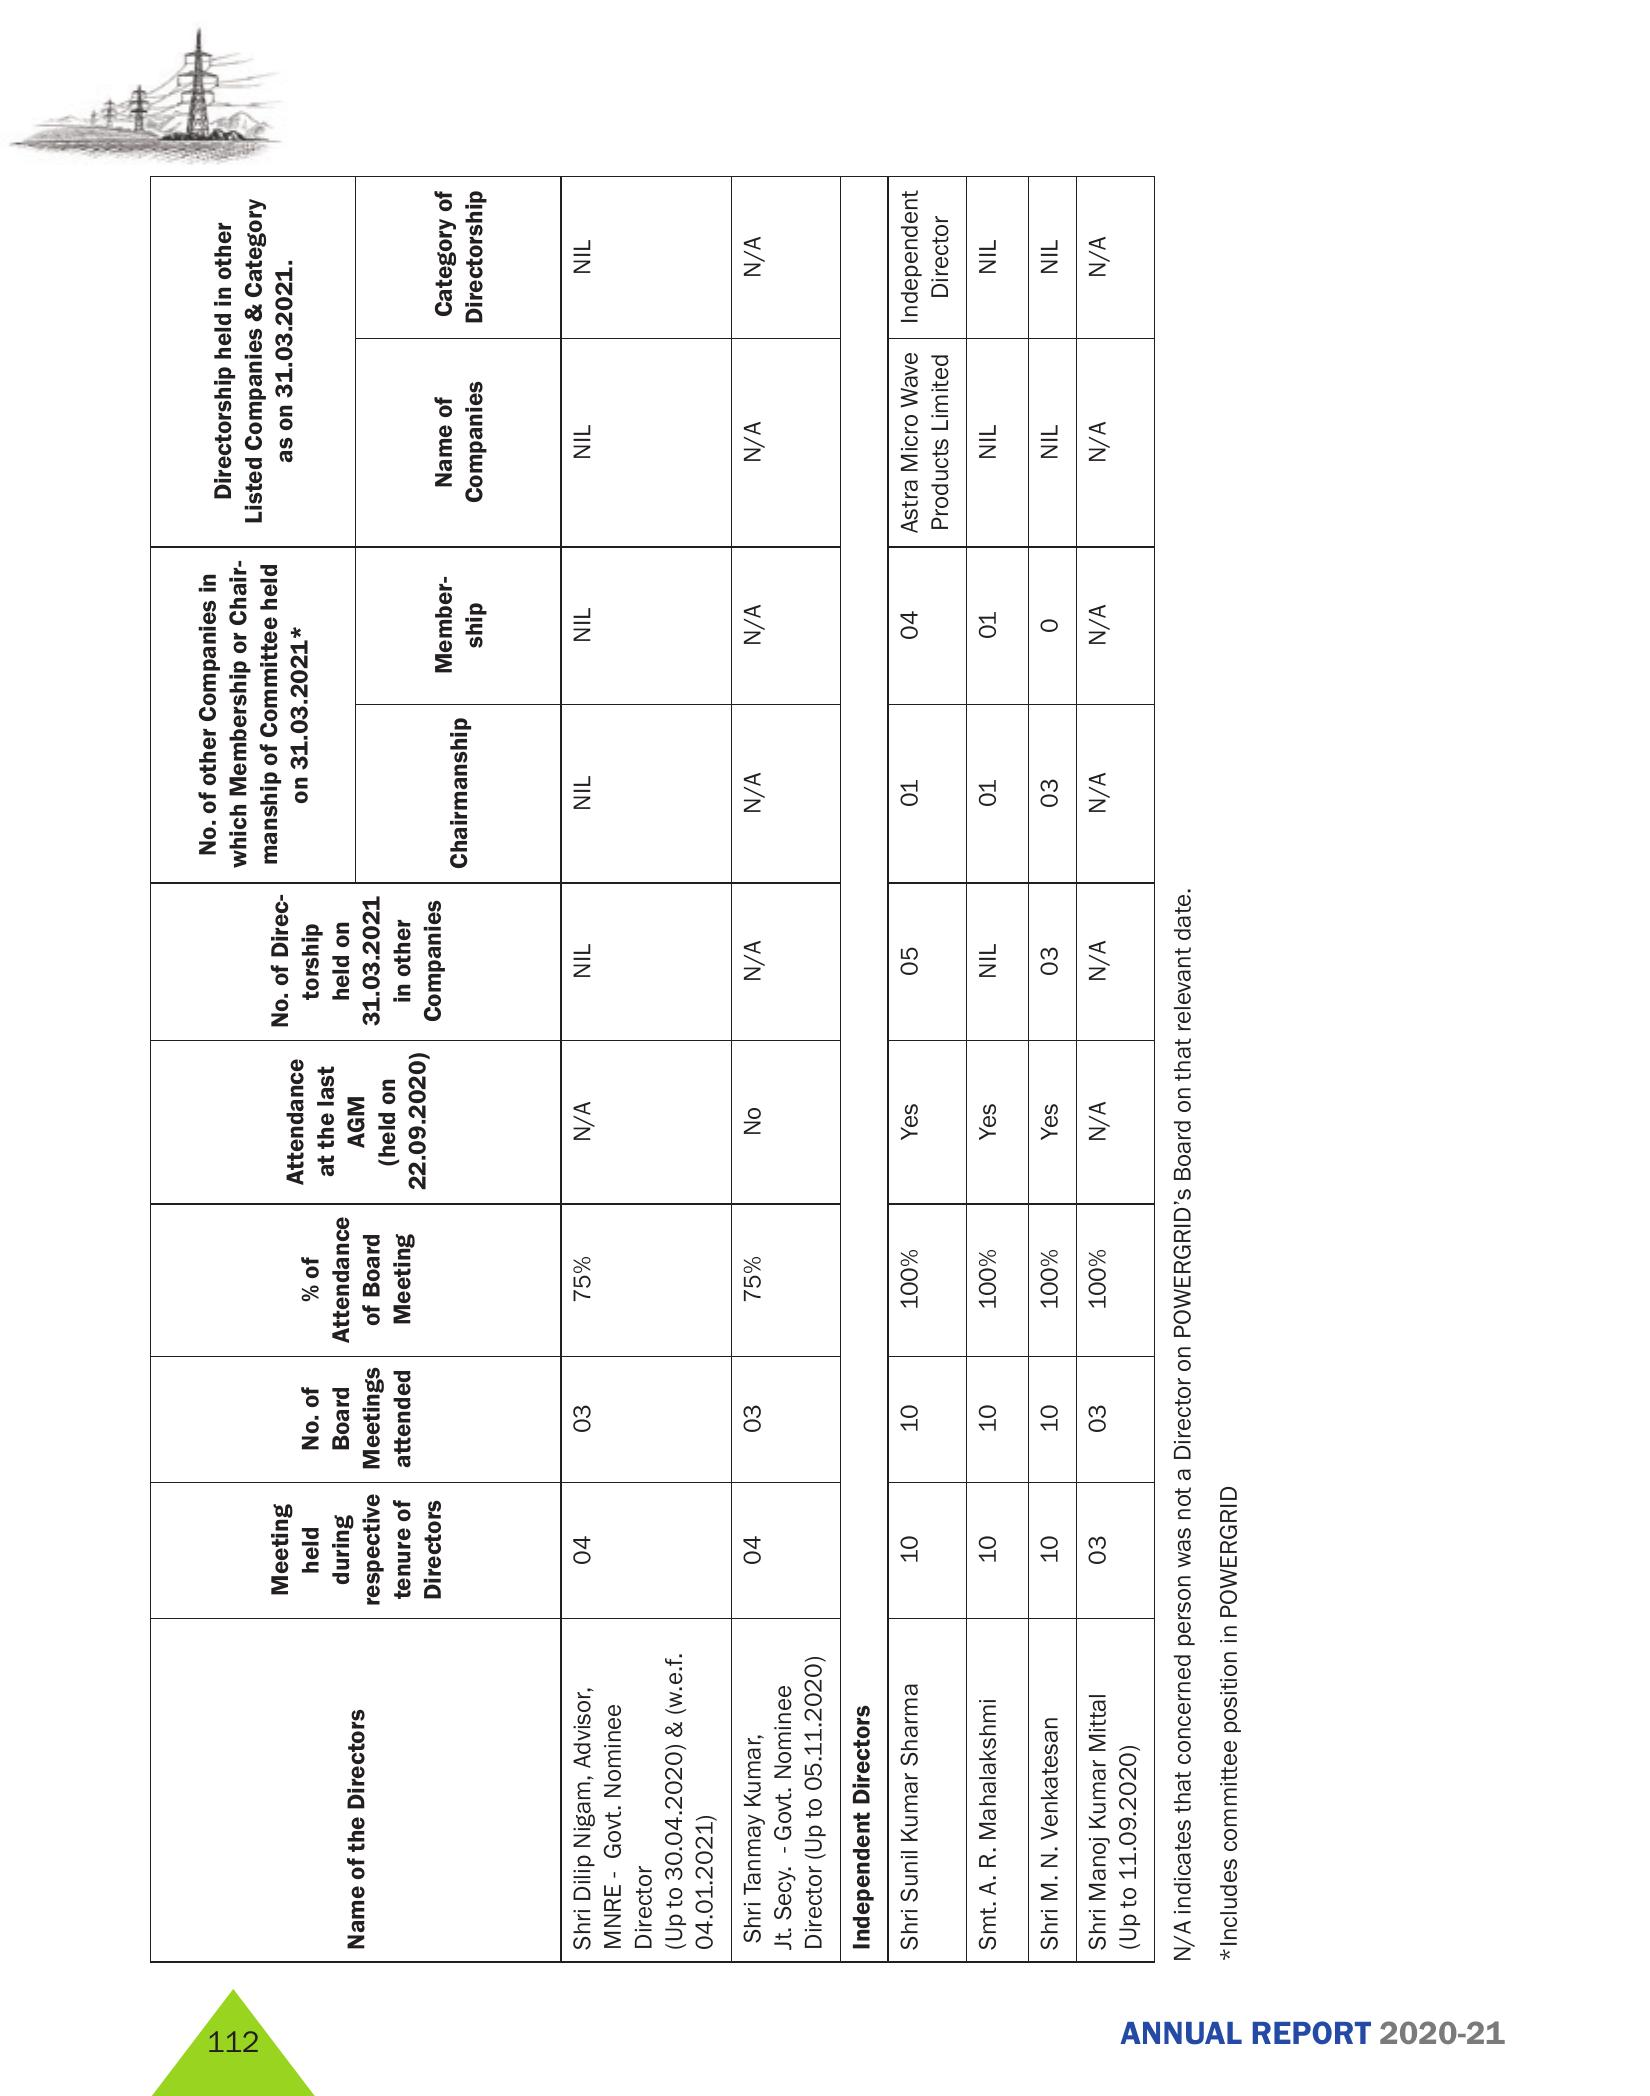Footer: (0, 1979, 1650, 2096)
Header: (0, 0, 1650, 175)
Table: (77, 184, 1160, 1974)
